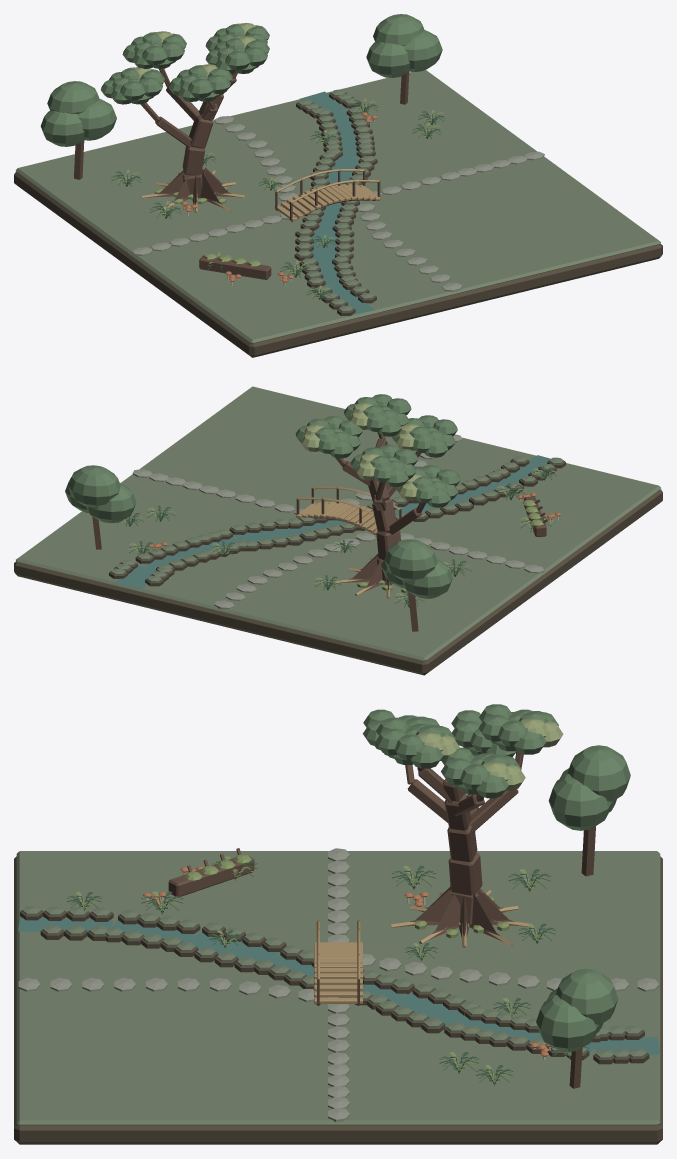
The model's file is fern_hollow-scene.glb.
The picture shows the model from 3 angles, top to bottom: view 1: azimuth 30°, elevation 25°; view 2: azimuth 150°, elevation 25°; view 3: azimuth 270°, elevation 25°; orthographic projection. The views are drawn at different scales.
Visible parts, largest first — view 1: runtime_deep moss lawn, runtime_canopy sage, runtime_peat bank, runtime_ancient bark, runtime_lichen stone, runtime_shallow stream, runtime_exposed heartwood, runtime_fern dark, runtime_fern light, runtime_canopy sunlit; view 2: runtime_deep moss lawn, runtime_canopy sage, runtime_peat bank, runtime_lichen stone, runtime_ancient bark, runtime_shallow stream, runtime_canopy sunlit, runtime_exposed heartwood, runtime_fern dark, runtime_fern light; view 3: runtime_deep moss lawn, runtime_peat bank, runtime_canopy sage, runtime_ancient bark, runtime_lichen stone, runtime_shallow stream, runtime_exposed heartwood, runtime_fern dark, runtime_fern light, runtime_canopy sunlit.
Part boxes in pixels (bbox=[...]): runtime_deep moss lawn: bbox=[15, 70, 660, 343]; runtime_canopy sage: bbox=[40, 14, 442, 146]; runtime_peat bank: bbox=[14, 92, 662, 357]; runtime_ancient bark: bbox=[74, 68, 409, 279]; runtime_lichen stone: bbox=[132, 116, 544, 291]; runtime_shallow stream: bbox=[299, 91, 374, 314]; runtime_exposed heartwood: bbox=[141, 169, 380, 221]; runtime_fern dark: bbox=[111, 99, 445, 299]; runtime_fern light: bbox=[117, 98, 443, 297]; runtime_canopy sunlit: bbox=[124, 23, 255, 78]; runtime_deep moss lawn: bbox=[16, 386, 661, 660]; runtime_canopy sage: bbox=[65, 394, 460, 598]; runtime_peat bank: bbox=[14, 459, 662, 675]; runtime_lichen stone: bbox=[132, 434, 544, 609]; runtime_ancient bark: bbox=[92, 432, 548, 631]; runtime_shallow stream: bbox=[115, 455, 550, 588]; runtime_canopy sunlit: bbox=[301, 403, 422, 500]; runtime_exposed heartwood: bbox=[296, 486, 400, 598]; runtime_fern dark: bbox=[117, 466, 556, 607]; runtime_fern light: bbox=[124, 468, 557, 604]; runtime_deep moss lawn: bbox=[16, 851, 660, 1125]; runtime_peat bank: bbox=[14, 856, 662, 1144]; runtime_canopy sage: bbox=[362, 704, 630, 1051]; runtime_ancient bark: bbox=[168, 751, 595, 1088]; runtime_lichen stone: bbox=[18, 848, 659, 1121]; runtime_shallow stream: bbox=[18, 917, 660, 1054]; runtime_exposed heartwood: bbox=[314, 889, 530, 1003]; runtime_fern dark: bbox=[67, 861, 589, 1085]; runtime_fern light: bbox=[76, 854, 585, 1082]; runtime_canopy sunlit: bbox=[408, 719, 563, 790].
Bounding box in the file's own units: 25.8 × 10.39 × 25.8.
